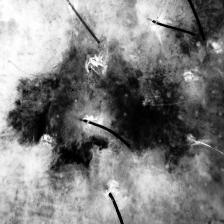Benign Marking or Mole: (0, 48, 189, 174)
